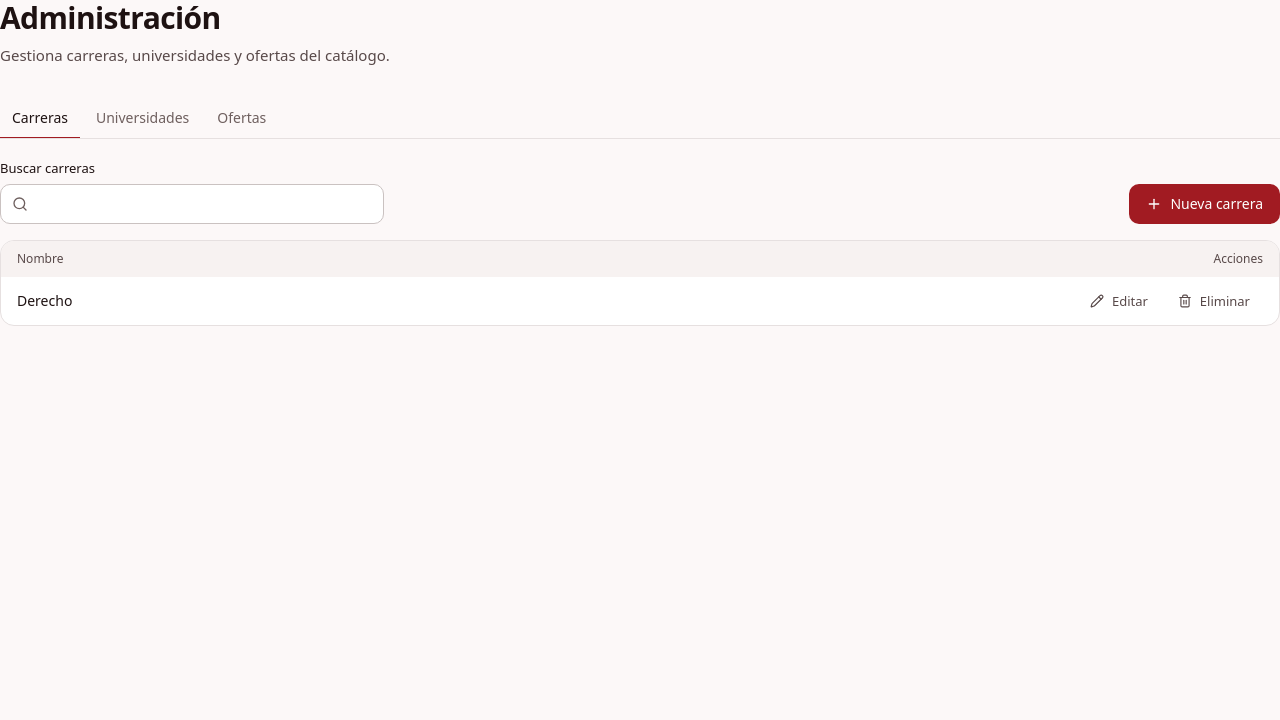
Admin › editar envía un PATCH solo con los campos que cambiaron
The image size is (1280, 720).
Later steps or results of the test are not shown.
Step 1. Click the button with aria-label "Editar carrera Derecho" → (1119, 301), box [1077,285,1161,317]
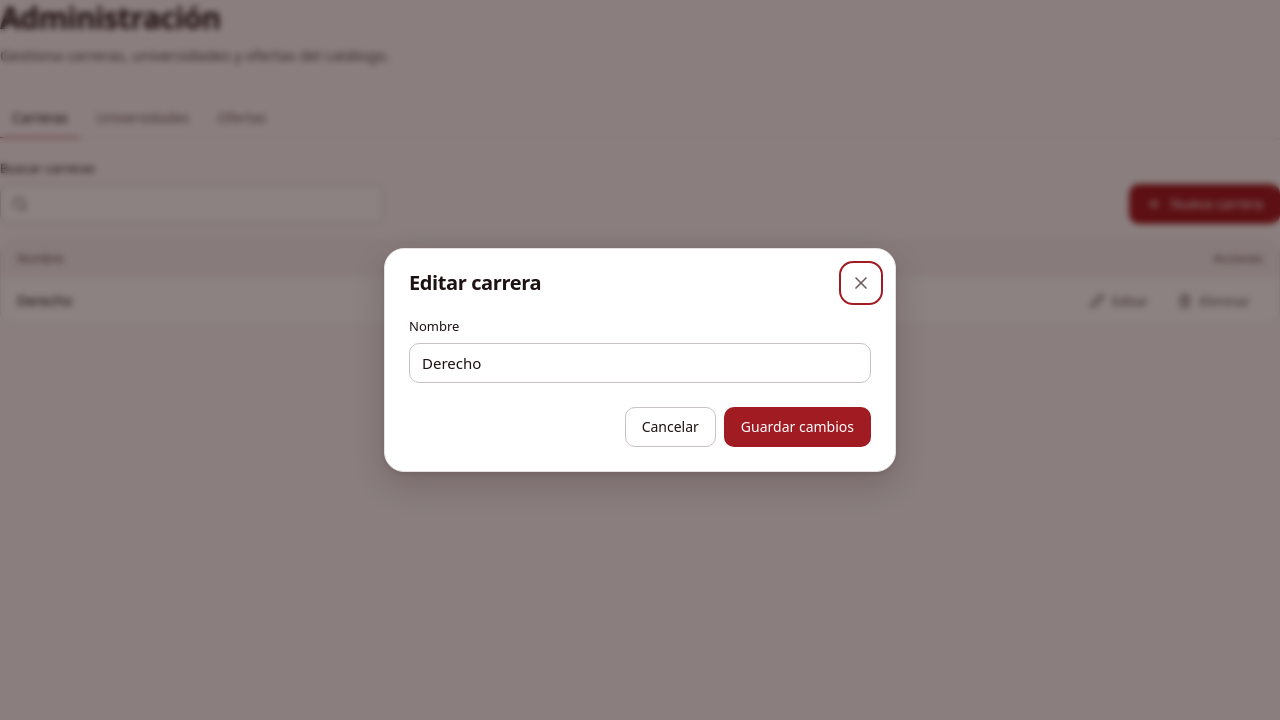
Result: the field labelled "Nombre" holds "Derecho" at [409,343,871,383]
